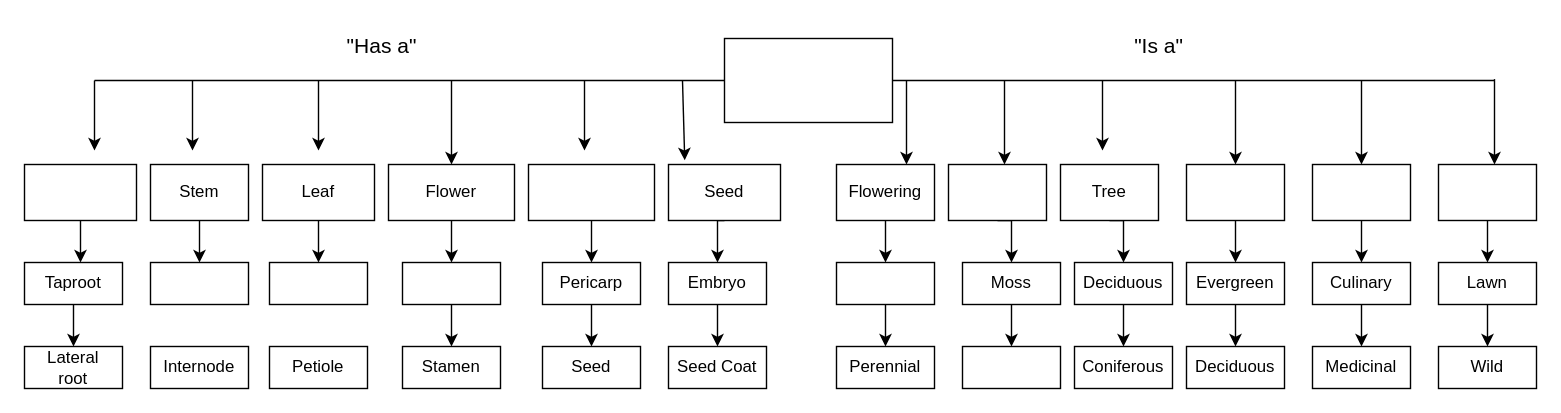
The diagram is 1561 pixels wide and 413 high, and some of its shapes have lost their labels. The centre of each missing label's shape, as x and y in pixels:
"Annual" goes at point (884, 282).
"Blade" goes at point (318, 282).
"Fern" goes at point (1010, 366).
"Fruit" goes at point (590, 191).
"Grass" goes at point (1486, 191).
"Herb" goes at point (1360, 191).
"Node" goes at point (198, 282).
"Non-flowering" goes at point (996, 191).
"Petal" goes at point (450, 282).
"Plant" goes at point (807, 79).
"Root" goes at point (79, 191).
"Shrub" goes at point (1234, 191).
